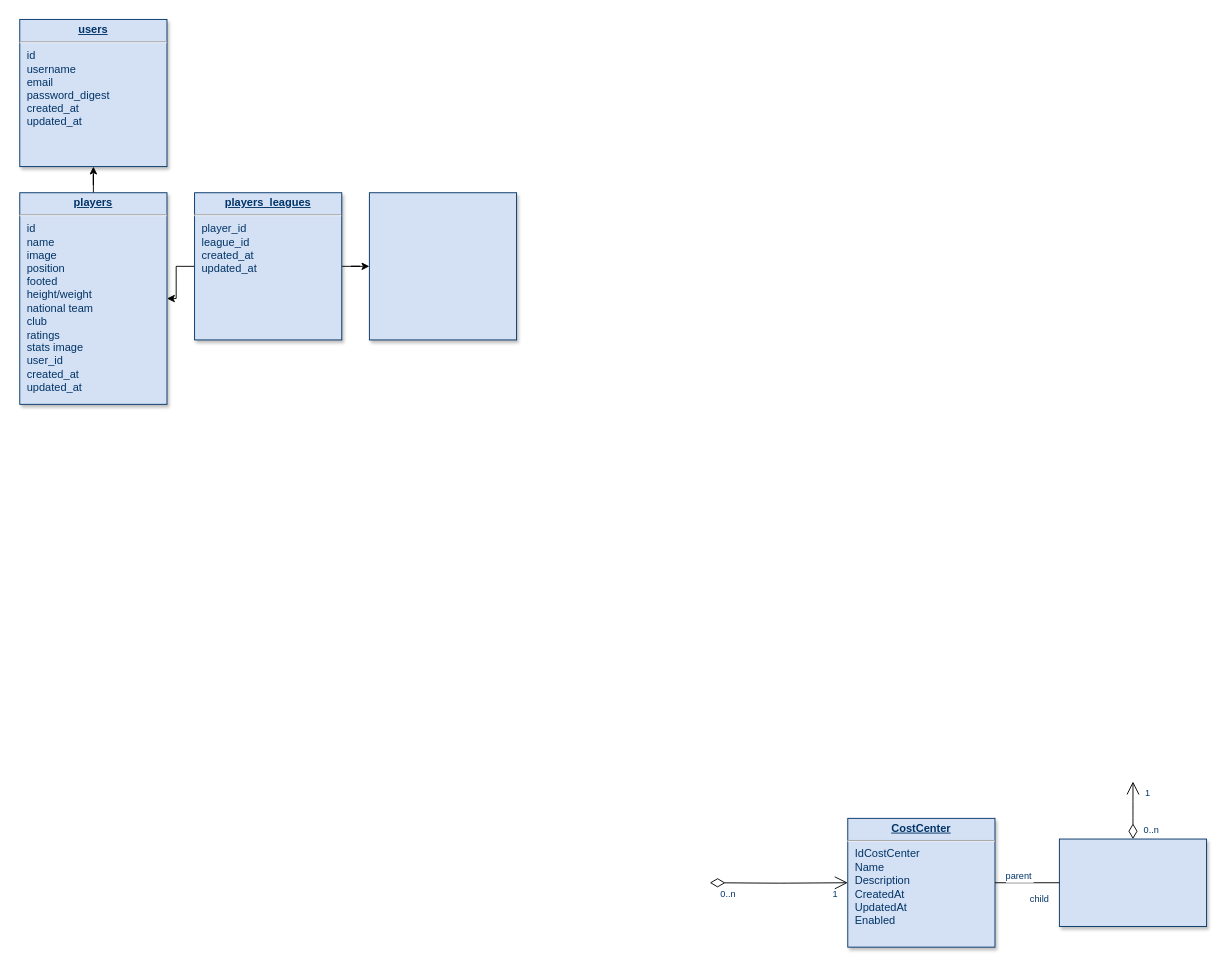
The diagram is 1228 pixels wide and 971 high, and some of its shapes have lost their labels. The shapes that lost their labels are listed below. From the top down, each one's centre as x and y in pixels, then its label:
At pixel 443 267: "leagues id name created_at updated_at".
At pixel 1133 883: "TimeSheetCostCenter IdTimeSheetCostCenter IdTimeSheet IdCostCenter".
